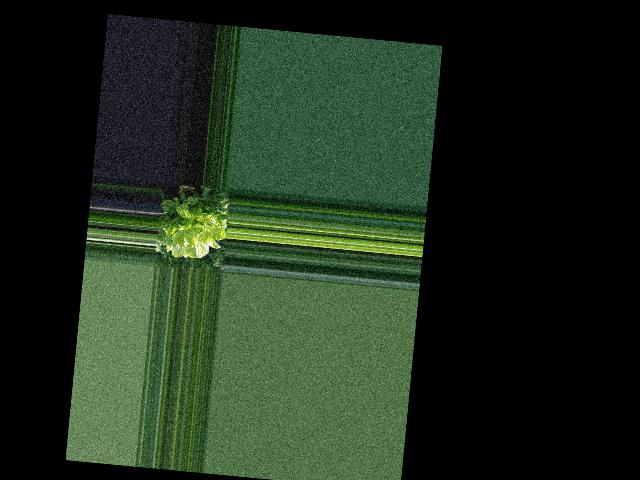lettuce: (156, 195, 222, 259)
